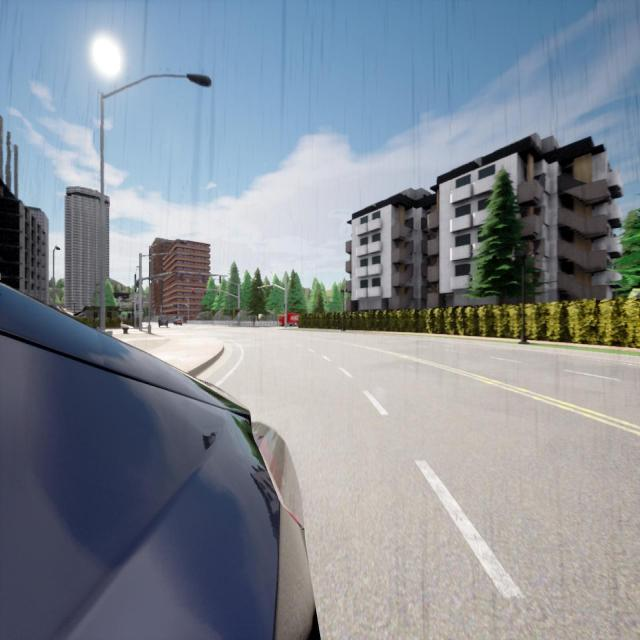Vehicle: (0, 284, 318, 638), (278, 312, 300, 326), (158, 315, 169, 328), (173, 319, 182, 326)
traffic_light: (180, 273, 182, 280), (202, 275, 204, 282), (219, 276, 221, 283), (238, 307, 240, 313), (204, 289, 206, 295), (192, 289, 194, 294), (283, 303, 285, 308), (217, 291, 219, 295)
